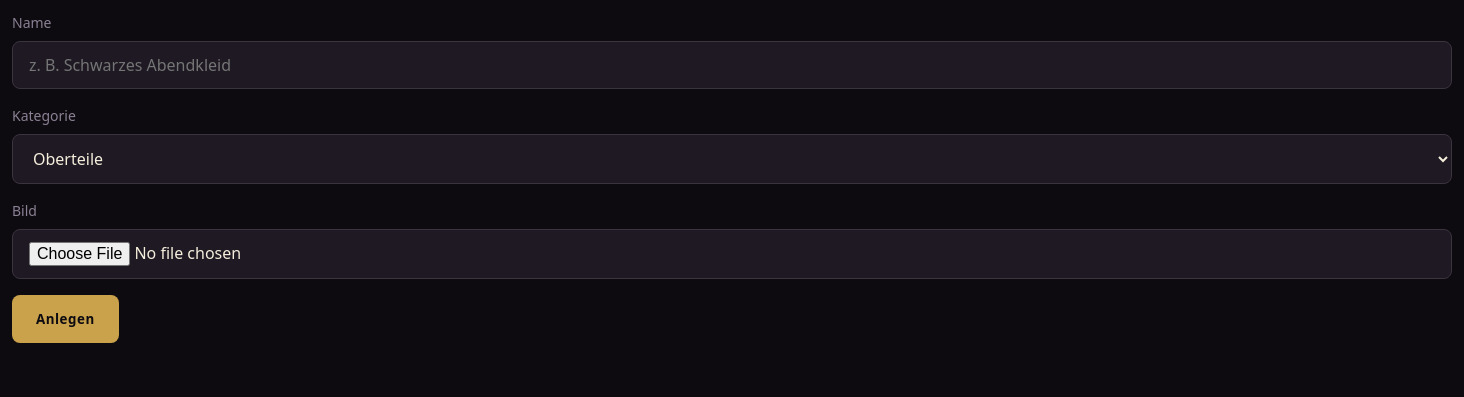
Test: ClothingForm › shows a validation message when the image is missing
In the field labelled "Name": (732,65) x1=12 y1=41 x2=1452 y2=89, type "Kleid"
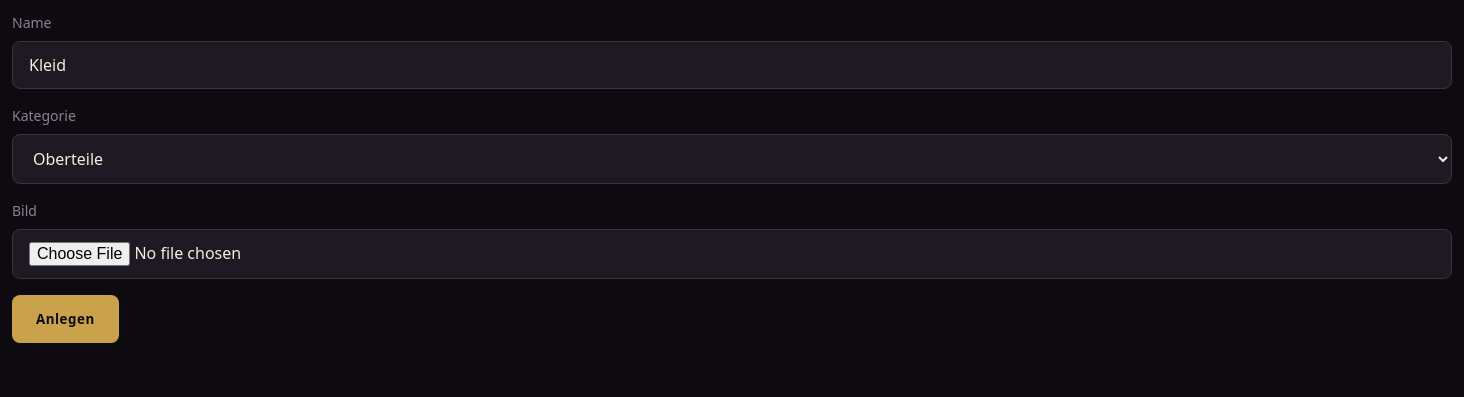
Click the button "Anlegen": (65,319) x1=12 y1=295 x2=119 y2=343
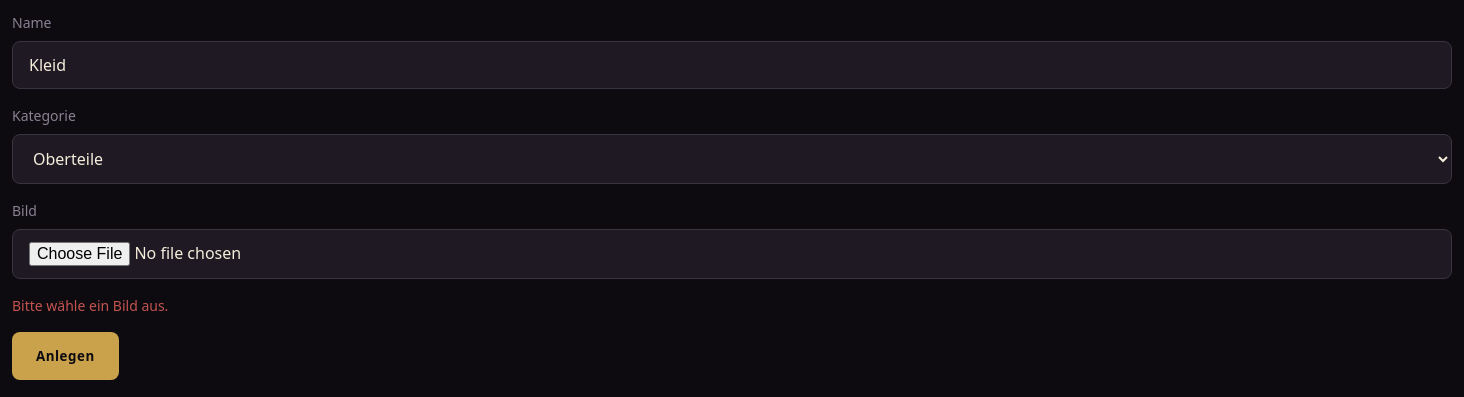
Expected: the text "Bitte wähle ein Bild aus." is shown, x1=12 y1=296 x2=168 y2=315
